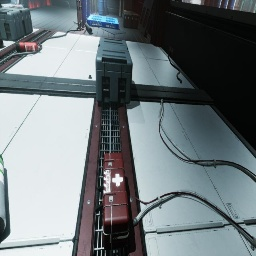0: (0, 154, 6, 237)
FireExtinguisher ]: (15, 42, 42, 52)
FirstAidBox ,: (96, 153, 130, 250)
NitrogenTank ,: (12, 4, 24, 8)
